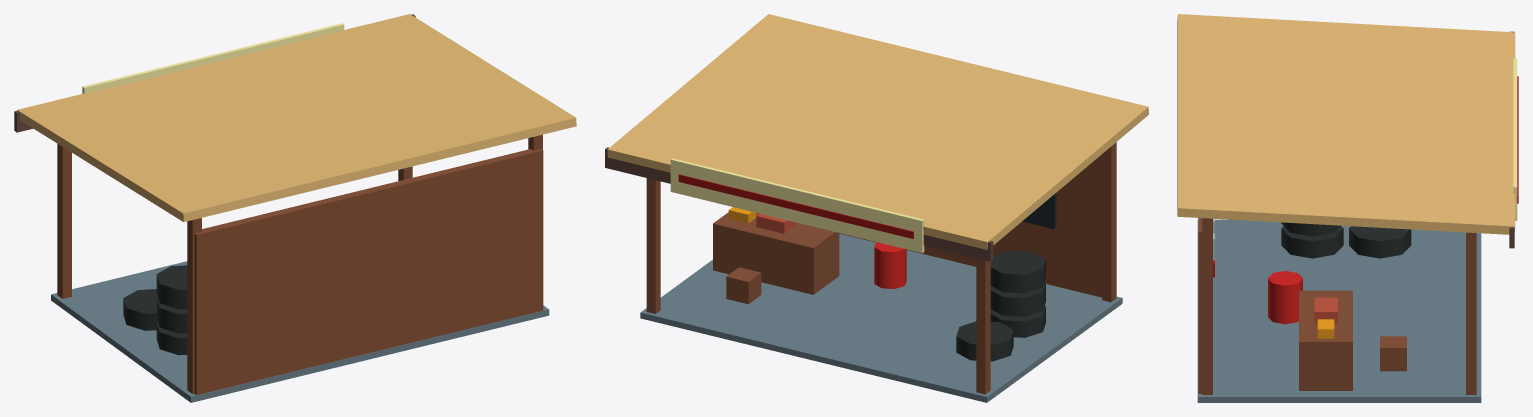
The model's file is garage.glb.
The picture shows the model from 3 angles, left to right: view 1: azimuth 30°, elevation 25°; view 2: azimuth 150°, elevation 25°; view 3: azimuth 270°, elevation 25°; orthographic projection. The views are drawn at different scales.
Parts seen in each view (by area): view 1: _MeshInstance3D_153, _MeshInstance3D_137, _MeshInstance3D_130, _MeshInstance3D_155, _MeshInstance3D_133, _MeshInstance3D_134, _MeshInstance3D_166, _MeshInstance3D_165, _MeshInstance3D_164, _MeshInstance3D_163; view 2: _MeshInstance3D_153, _MeshInstance3D_130, _MeshInstance3D_137, _MeshInstance3D_155, _MeshInstance3D_157, _MeshInstance3D_134, _MeshInstance3D_165, _MeshInstance3D_133, _MeshInstance3D_135, _MeshInstance3D_156, _MeshInstance3D_154, _MeshInstance3D_166 (+6 smaller); view 3: _MeshInstance3D_153, _MeshInstance3D_130, _MeshInstance3D_157, _MeshInstance3D_136, _MeshInstance3D_135, _MeshInstance3D_166, _MeshInstance3D_167, _MeshInstance3D_163, _MeshInstance3D_162, _MeshInstance3D_137, _MeshInstance3D_155, _MeshInstance3D_160 (+2 smaller).
Part boxes in pixels (x1,y1,x2,y2): _MeshInstance3D_153: [17, 14, 576, 221]; _MeshInstance3D_137: [194, 149, 543, 395]; _MeshInstance3D_130: [51, 261, 549, 402]; _MeshInstance3D_155: [82, 23, 344, 93]; _MeshInstance3D_133: [57, 143, 71, 298]; _MeshInstance3D_134: [187, 218, 201, 393]; _MeshInstance3D_166: [123, 289, 157, 330]; _MeshInstance3D_165: [156, 265, 187, 309]; _MeshInstance3D_164: [156, 298, 187, 333]; _MeshInstance3D_163: [156, 322, 187, 355]; _MeshInstance3D_153: [607, 14, 1148, 249]; _MeshInstance3D_130: [640, 233, 1122, 402]; _MeshInstance3D_137: [839, 142, 1116, 297]; _MeshInstance3D_155: [670, 158, 924, 253]; _MeshInstance3D_157: [713, 212, 839, 294]; _MeshInstance3D_134: [1102, 142, 1116, 302]; _MeshInstance3D_165: [990, 250, 1045, 293]; _MeshInstance3D_133: [976, 258, 990, 394]; _MeshInstance3D_135: [646, 178, 660, 313]; _MeshInstance3D_156: [678, 174, 913, 238]; _MeshInstance3D_154: [605, 147, 993, 261]; _MeshInstance3D_166: [956, 321, 1013, 361]; _MeshInstance3D_153: [1177, 14, 1515, 234]; _MeshInstance3D_130: [1197, 219, 1481, 402]; _MeshInstance3D_157: [1299, 290, 1352, 390]; _MeshInstance3D_136: [1202, 218, 1212, 394]; _MeshInstance3D_135: [1466, 232, 1476, 394]; _MeshInstance3D_166: [1349, 226, 1411, 258]; _MeshInstance3D_167: [1268, 271, 1302, 324]; _MeshInstance3D_163: [1281, 226, 1343, 258]; _MeshInstance3D_162: [1380, 336, 1406, 371]; _MeshInstance3D_137: [1198, 218, 1202, 393]; _MeshInstance3D_155: [1513, 58, 1517, 220]; _MeshInstance3D_160: [1314, 297, 1337, 323].
Size of the model in its own units: 6.9 by 3.32 by 5.05.
